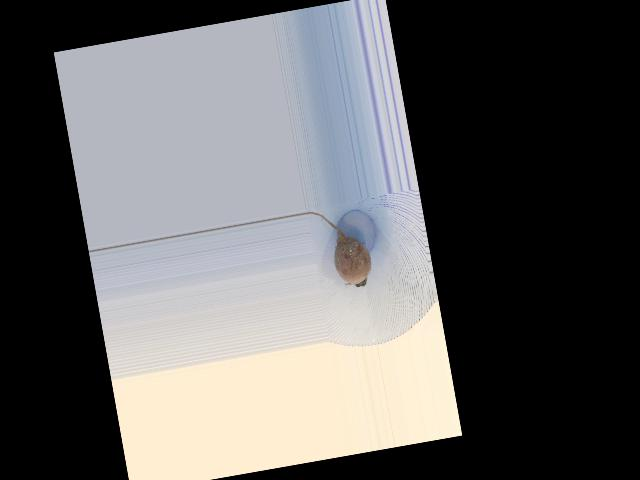beet: (305, 203, 375, 294)
